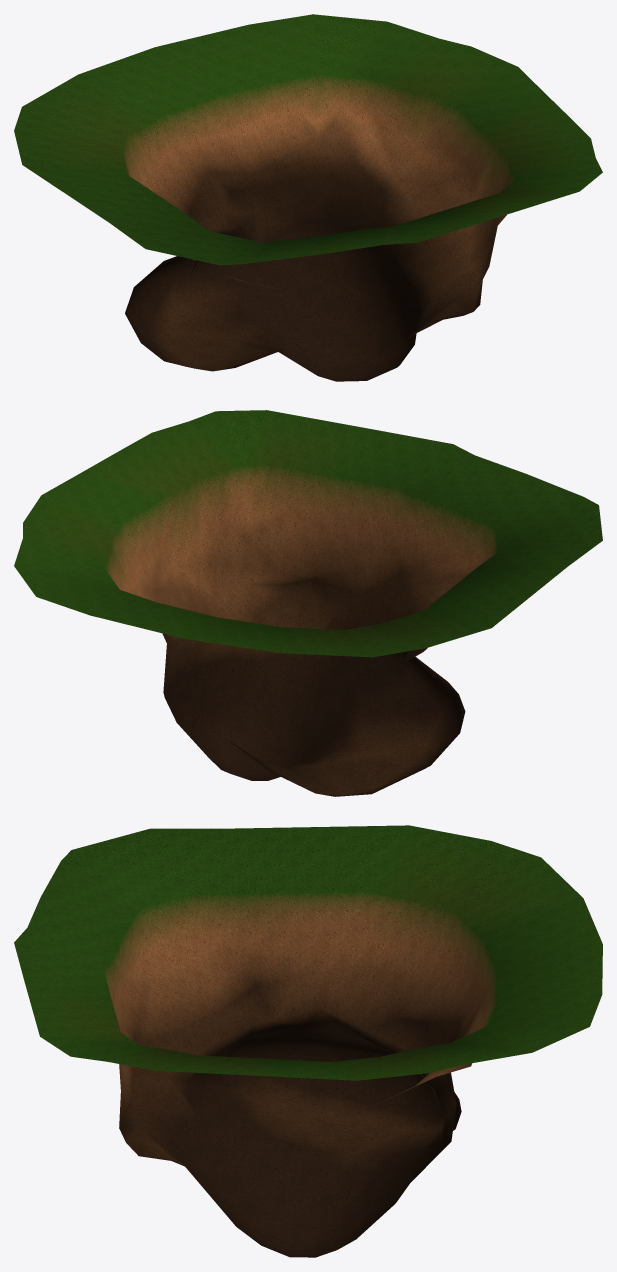
File: pond!.glb
3 views of the same model, one above another, from view 1: azimuth 30°, elevation 25°; view 2: azimuth 150°, elevation 25°; view 3: azimuth 270°, elevation 25° (orthographic). The views are drawn at different scales.
Parts seen in each view (by area): view 1: Cube.001; view 2: Cube.001; view 3: Cube.001.
Boxes of the visible parts, x1,y1,x2,y2 form: Cube.001: (14,14,602,381); Cube.001: (14,410,602,796); Cube.001: (14,825,602,1257).
Bounding box in the file's own units: 54.3 × 27.1 × 52.92.
Materials: 1 (1 with a texture image).
